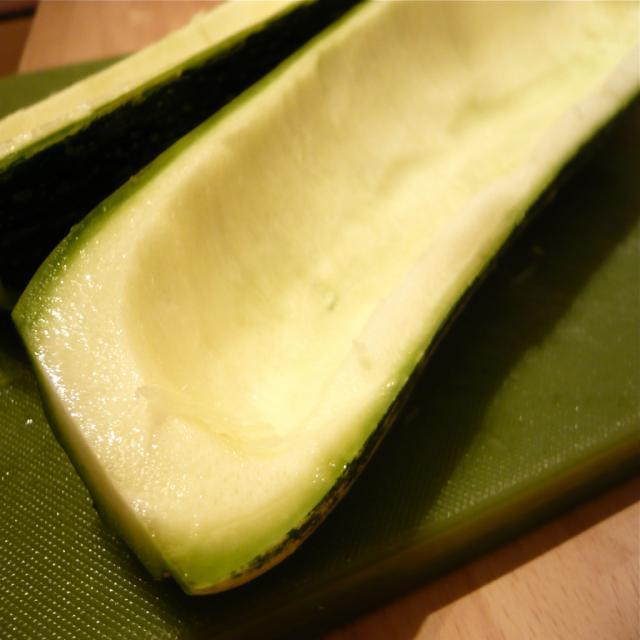Zucchini: (34, 0, 611, 623)
